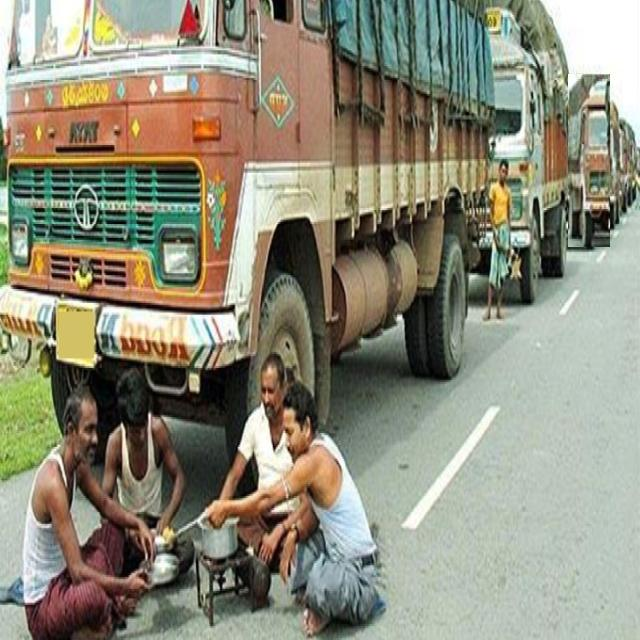truck: (0, 0, 494, 454), (486, 0, 571, 302), (568, 75, 610, 247)
